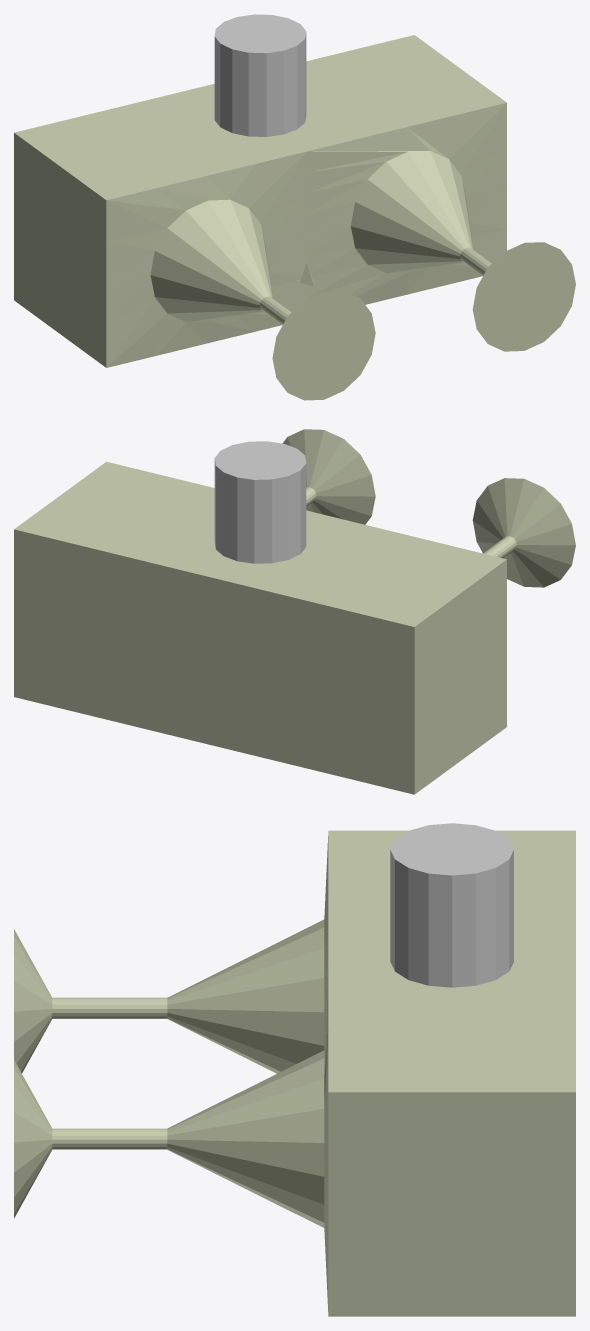
Rendered from TVPyPos3dApp1.obj.
3 renders of one model, top to bottom at view 1: azimuth 30°, elevation 25°; view 2: azimuth 150°, elevation 25°; view 3: azimuth 270°, elevation 25°, orthographic. The views are drawn at different scales.
Visible parts, largest first — view 1: PlugExt, Cylinder1, Plug; view 2: PlugExt, Cylinder1; view 3: PlugExt, Cylinder1, Plug.
Boxes of the visible parts, x1,y1,x2,y2 form: PlugExt: (14,35,575,400); Cylinder1: (214,14,306,136); Plug: (151,151,463,321); PlugExt: (14,429,575,794); Cylinder1: (214,441,306,563); PlugExt: (14,830,575,1316); Cylinder1: (390,823,513,987); Plug: (167,920,324,1227).
Bounding box in the file's own units: 5 × 3 × 4.54.
